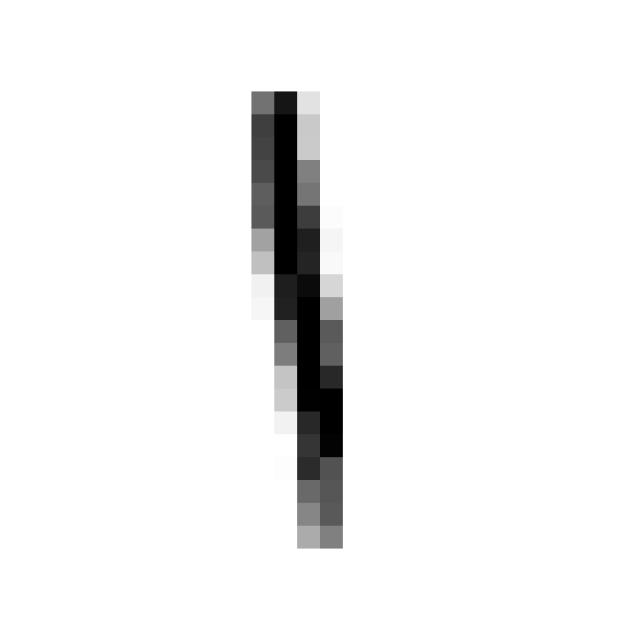1 -one-: (224, 66, 372, 579)
